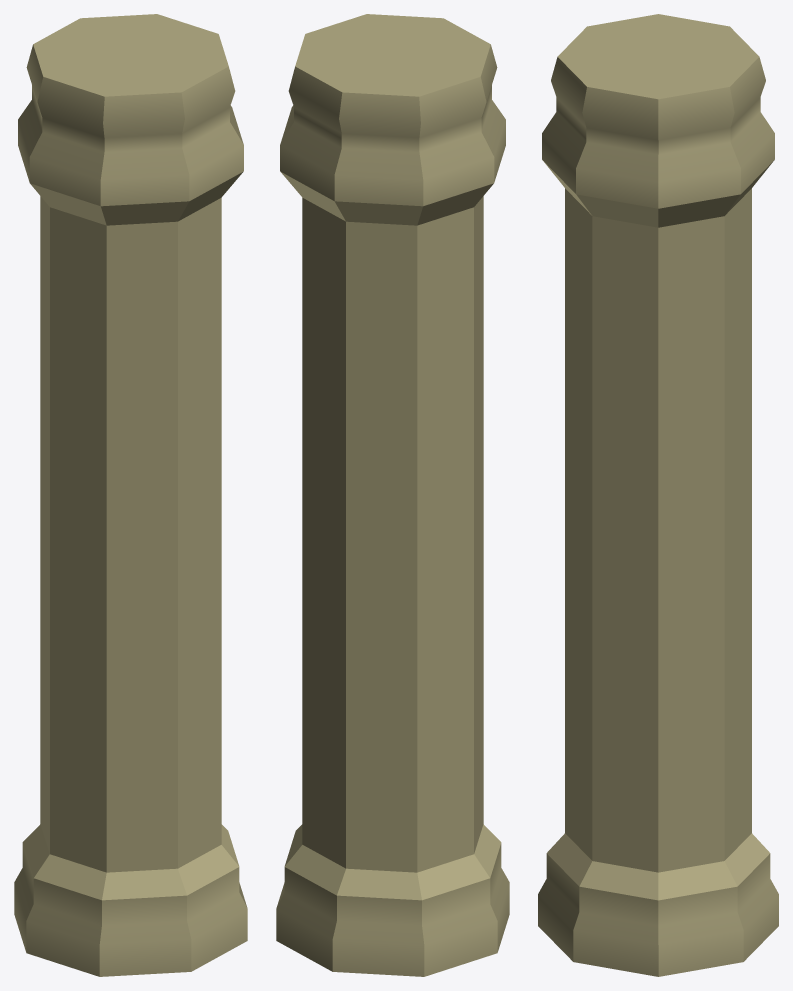
Rendered from simplecolumn.fbx.
3 renders of one model, left to right at view 1: azimuth 30°, elevation 25°; view 2: azimuth 150°, elevation 25°; view 3: azimuth 270°, elevation 25°, orthographic.
Parts seen in each view (by area): view 1: Cylinder; view 2: Cylinder; view 3: Cylinder.
Part boxes in pixels (bbox=[...]): Cylinder: bbox=[14, 14, 247, 976]; Cylinder: bbox=[276, 14, 509, 976]; Cylinder: bbox=[538, 14, 778, 976].
Size of the model in its own units: 177 by 704 by 177.
